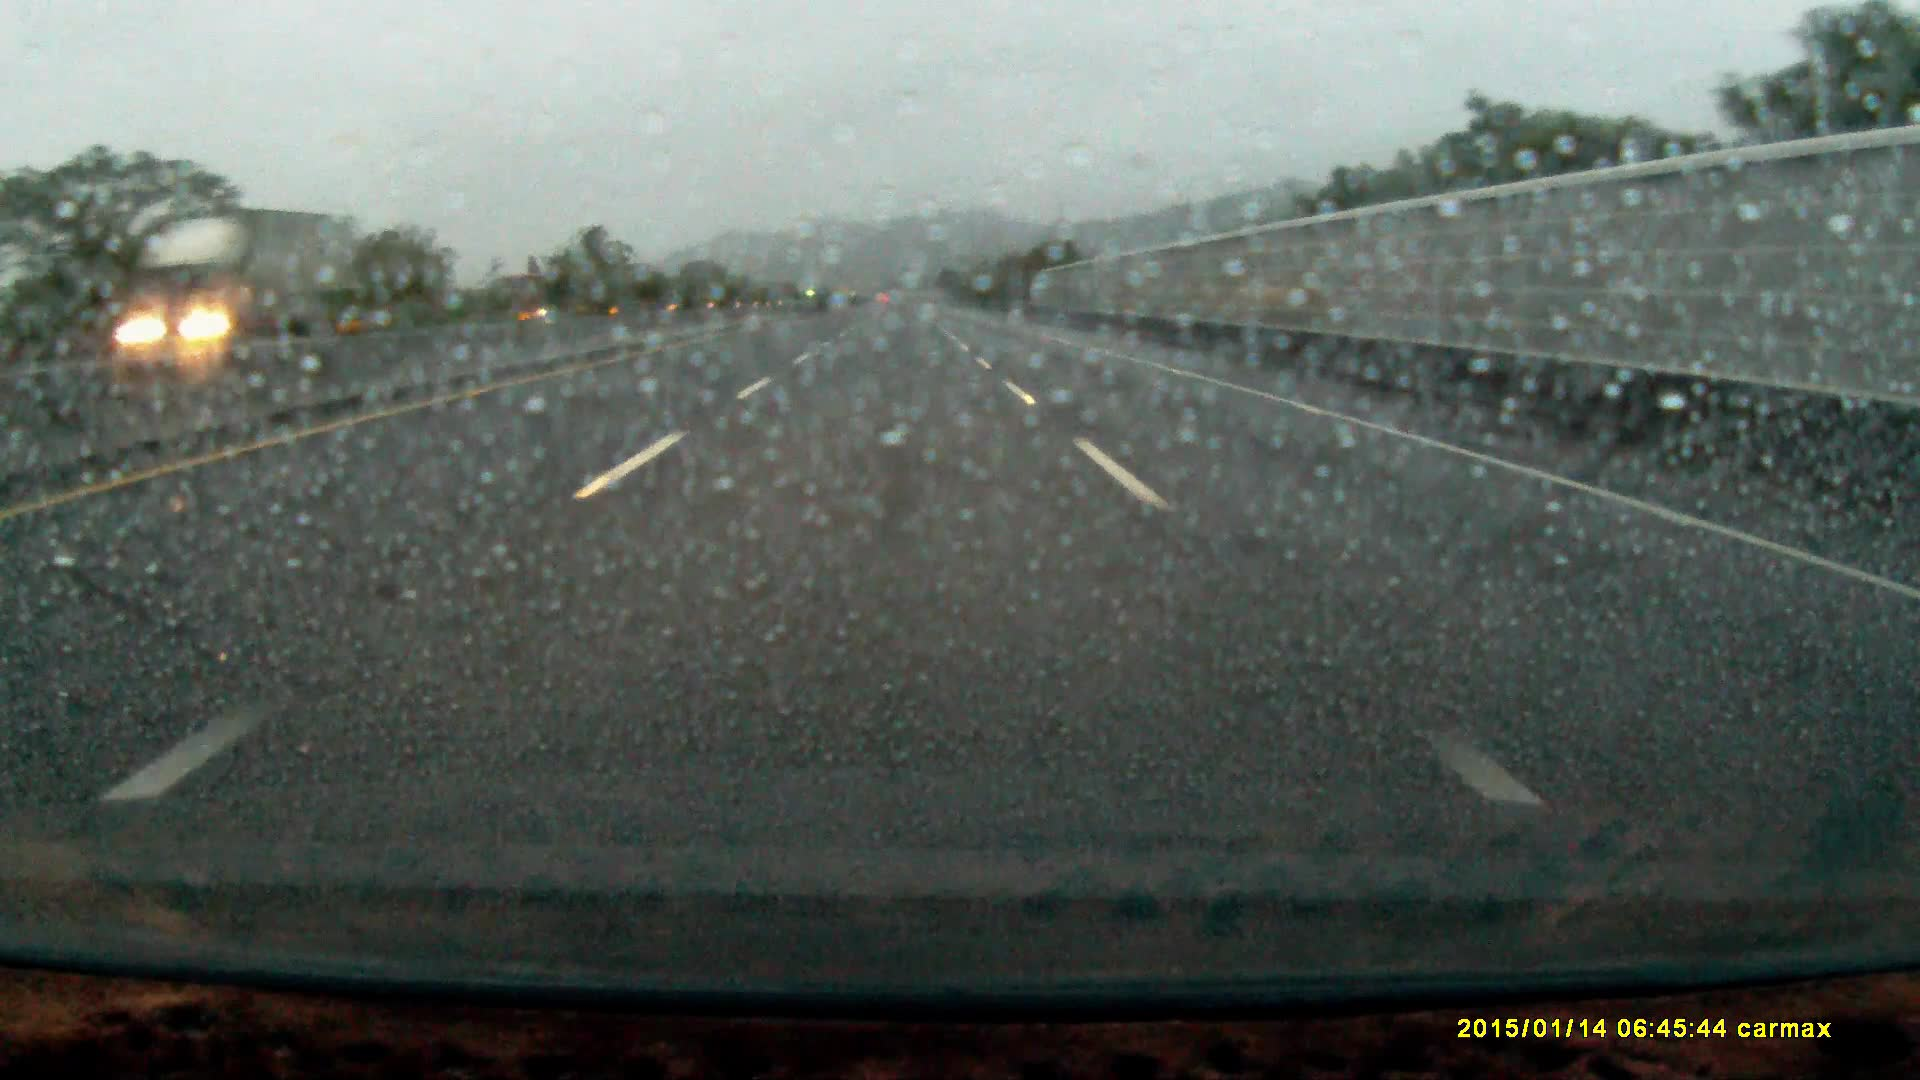vehicle: (112, 215, 353, 367), (506, 284, 599, 323)
